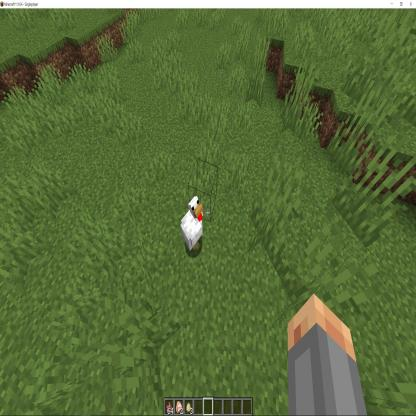minecraft-pigs: (179, 195, 206, 255)
